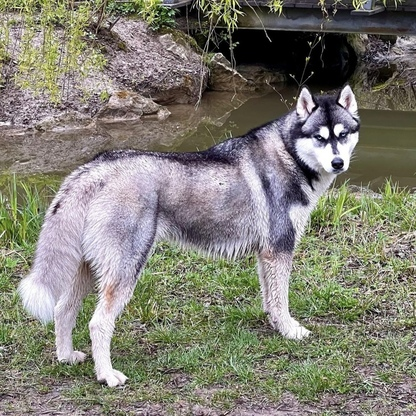husky: (15, 79, 366, 391)
